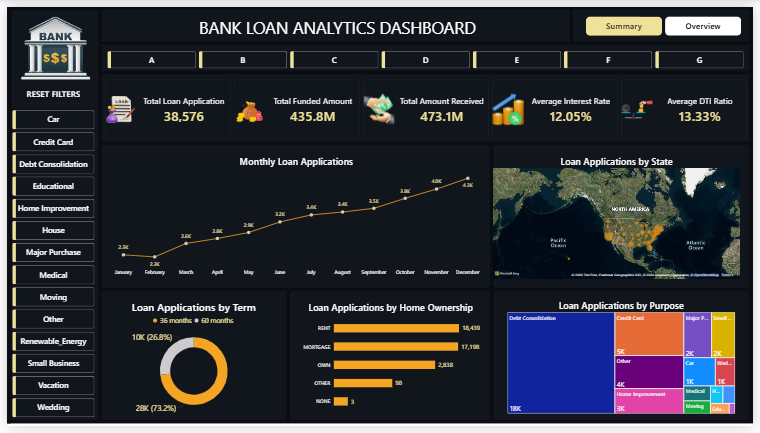

The dashboard page shown, as its layout file describes it:
{"tool":"powerbi","page":{"name":"Overview","canvas":[1920,1080],"ordinal":1},"visuals":[{"type":"cardVisual","fields":{"Data":["financial_loan.Total Loan Application","financial_loan.Total Funded Amount","financial_loan.Total Amount Received","financial_loan.Average Interest Rate","financial_loan.Average DTI Rate"]},"box":[250,187.8,1653.3,153.3],"z":0},{"type":"image","box":[0,0,250,210],"z":1000},{"type":"advancedSlicerVisual","fields":{"Values":["financial_loan.PURPOSE"]},"box":[14.3,264.3,211.4,802.9],"z":2000},{"type":"advancedSlicerVisual","fields":{"Values":["financial_loan.GRADE"]},"box":[260,113,1643,44],"z":3000},{"type":"actionButton","box":[14.3,200,211.4,50],"z":4000},{"type":"textbox","box":[250,24.3,1197.1,68.6],"z":5000},{"type":"pageNavigator","box":[1488.6,24.3,400,50],"z":6000},{"type":"lineChart","title":"Monthly Loan Applications","fields":{"Category":["financial_loan.ISSUE_DATE.Variation.Date Hierarchy.Month"],"Y":["financial_loan.Total Loan Application"]},"box":[250,365.7,985.7,348.6],"z":7000},{"type":"donutChart","title":"Loan Applications by Term","fields":{"Category":["financial_loan.TERM"],"Y":["financial_loan.Total Loan Application"]},"box":[250,738.6,458.6,328.6],"z":8000},{"type":"clusteredBarChart","title":"Loan Applications by Home Ownership","fields":{"Category":["financial_loan.HOME_OWNERSHIP"],"Y":["financial_loan.Total Loan Application"]},"box":[742.9,741.4,492.9,321.4],"z":9000},{"type":"treemap","title":"Loan Applications by Purpose","fields":{"Group":["financial_loan.PURPOSE"],"Values":["financial_loan.Total Loan Application"]},"box":[1271.4,738.6,617.1,324.3],"z":10000},{"type":"map","title":" Loan Applications by State ","fields":{"Category":["financial_loan.ADDRESS_STATE"],"Size":["financial_loan.Total Loan Application"]},"box":[1234.4,366.3,669,350.4],"z":10001}]}

Visuals, with their boxes in screenshot pixels (x1, y1, x2, y2), scaled from the page's 1920x1080 canvas onto the 760x433 screenshot:
cardVisual - financial_loan.Total Loan Application x financial_loan.Total Funded Amount: <box>99,75,753,137</box>
image: <box>0,0,99,84</box>
advancedSlicerVisual - financial_loan.PURPOSE: <box>6,106,89,428</box>
advancedSlicerVisual - financial_loan.GRADE: <box>103,45,753,63</box>
actionButton: <box>6,80,89,100</box>
textbox: <box>99,10,573,37</box>
pageNavigator: <box>589,10,748,30</box>
"Monthly Loan Applications" lineChart: <box>99,147,489,286</box>
"Loan Applications by Term" donutChart: <box>99,296,280,428</box>
"Loan Applications by Home Ownership" clusteredBarChart: <box>294,297,489,426</box>
"Loan Applications by Purpose" treemap: <box>503,296,748,426</box>
" Loan Applications by State " map: <box>489,147,753,287</box>
